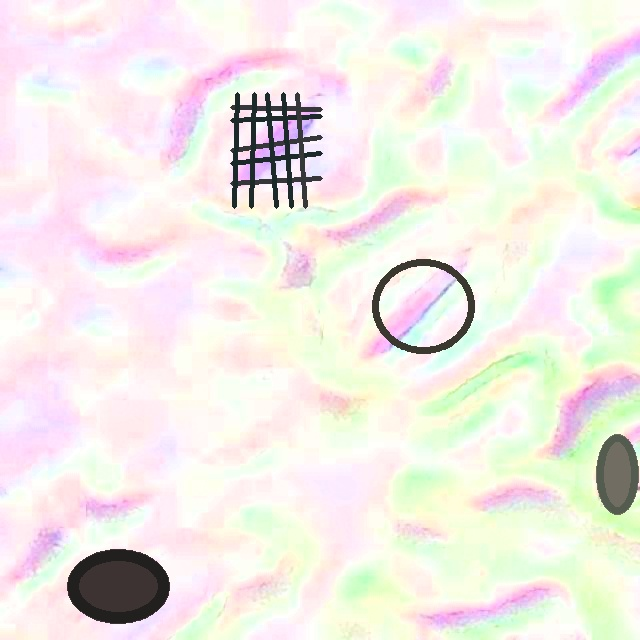open: (230, 92, 322, 207), (370, 258, 475, 353), (67, 549, 168, 623), (596, 434, 638, 514)
